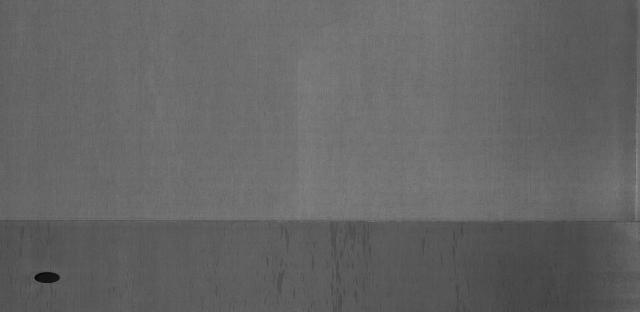punching_hole: (29, 266, 70, 286)
welding_line: (6, 212, 640, 232)
